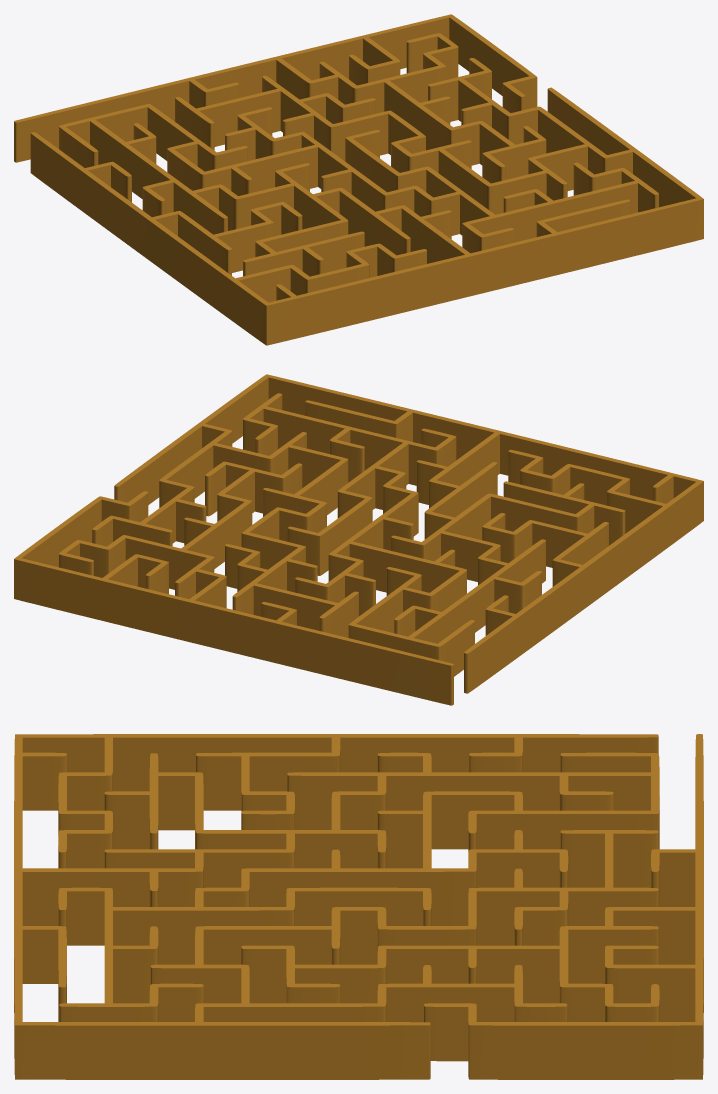
File: labyrinth.glb
3 views of the same model, one above another, from view 1: azimuth 30°, elevation 25°; view 2: azimuth 150°, elevation 25°; view 3: azimuth 270°, elevation 25° (orthographic). The views are drawn at different scales.
Visible parts, largest first — view 1: lbr_1; view 2: lbr_1; view 3: lbr_1.
Part boxes in pixels (x1,y1,x2,y2): lbr_1: [14, 14, 703, 345]; lbr_1: [14, 374, 703, 705]; lbr_1: [14, 734, 703, 1079].
Bounding box in the file's own units: 3.46 × 0.3 × 3.45.
